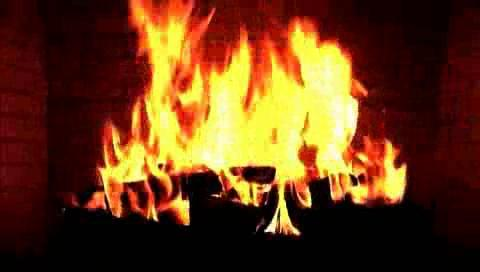fire: (107, 10, 410, 227)
